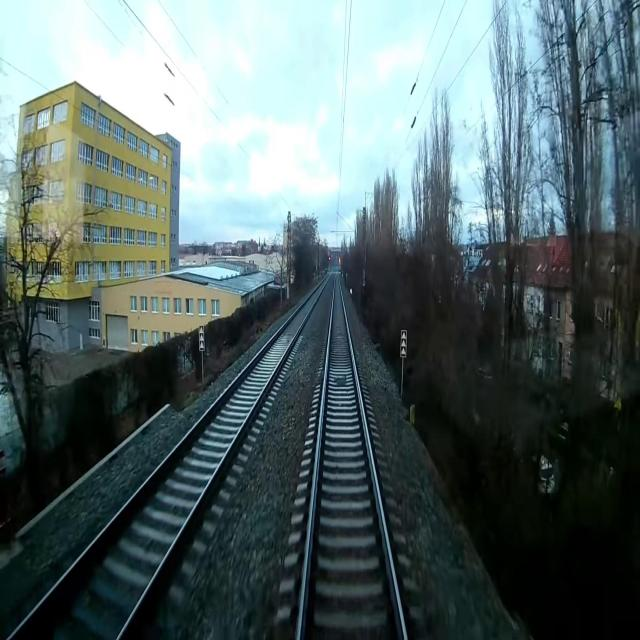rail-track: (12, 276, 328, 639), (300, 274, 403, 639)
